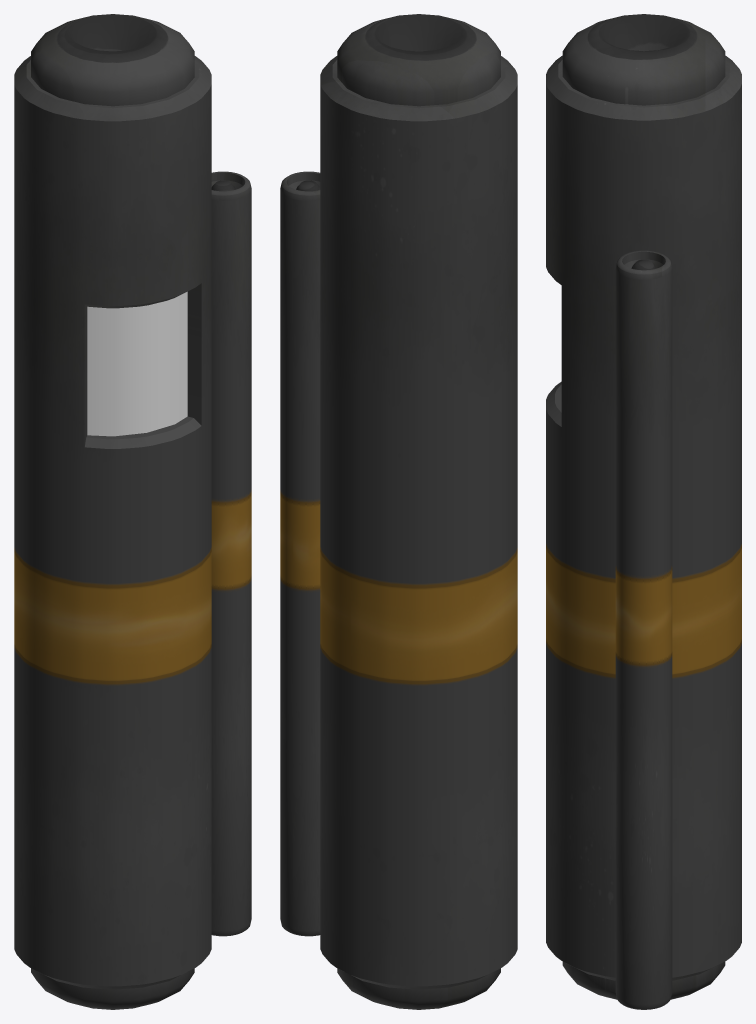
File: Fuse.fbx
3 views of the same model, side by side, from view 1: azimuth 30°, elevation 25°; view 2: azimuth 150°, elevation 25°; view 3: azimuth 270°, elevation 25° (orthographic).
Parts seen in each view (by area): view 1: Cylinder001, Plane001; view 2: Cylinder001; view 3: Cylinder001.
Boxes of the visible parts, box(x1,y1,x2,y2) form: Cylinder001: box(14, 14, 251, 1009); Plane001: box(87, 291, 187, 436); Cylinder001: box(280, 14, 517, 1009); Cylinder001: box(546, 14, 741, 1009).
Bounding box in the file's own units: 8.61 × 35.69 × 6.66.
2 materials, 2 textured.
